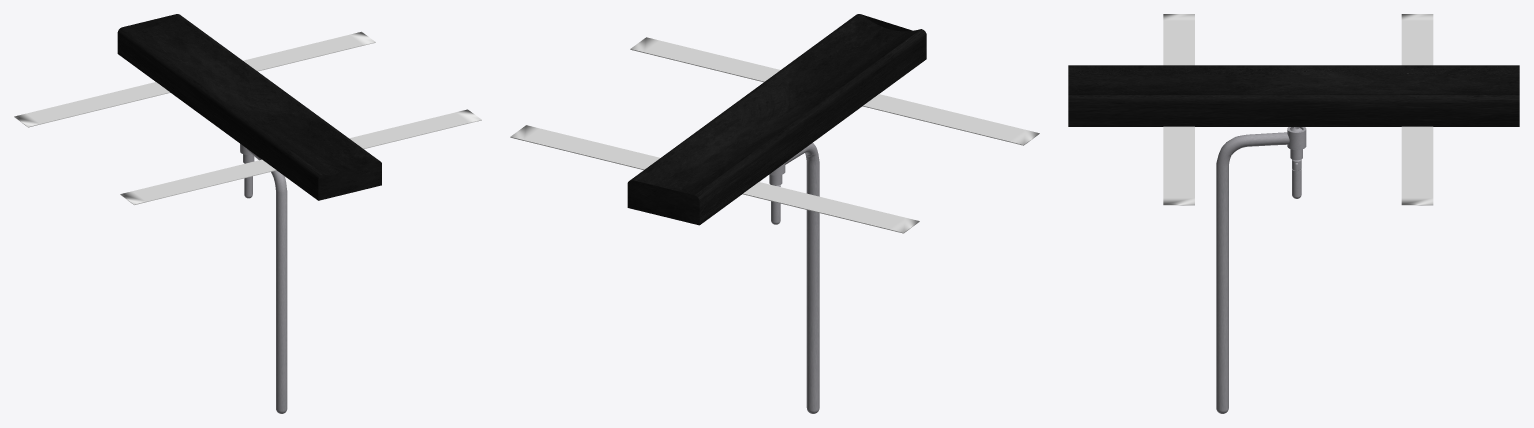
File: arm_board_for_lateral_position.fbx
3 views of the same model, side by side, from view 1: azimuth 30°, elevation 25°; view 2: azimuth 150°, elevation 25°; view 3: azimuth 270°, elevation 25° (orthographic). The views are drawn at different scales.
Visible parts, largest first — view 1: pad, strap_1, strap_2, mountig_rod; view 2: pad, strap_2, strap_1, mountig_rod; view 3: pad, strap_1, mountig_rod, strap_2.
Part boxes in pixels (x1,y1,x2,y2): pad: (117, 14, 381, 200); strap_1: (14, 31, 375, 127); strap_2: (120, 109, 481, 204); mountig_rod: (247, 149, 287, 413); pad: (627, 14, 926, 225); strap_2: (630, 37, 1039, 145); strap_1: (510, 125, 919, 233); mountig_rod: (785, 143, 819, 413); pad: (1068, 65, 1519, 126); strap_1: (1401, 14, 1433, 205); mountig_rod: (1216, 132, 1289, 413); strap_2: (1163, 14, 1194, 205).
Bounding box in the file's own units: 63.9 × 52.01 × 63.9.
3 materials, 2 textured.
